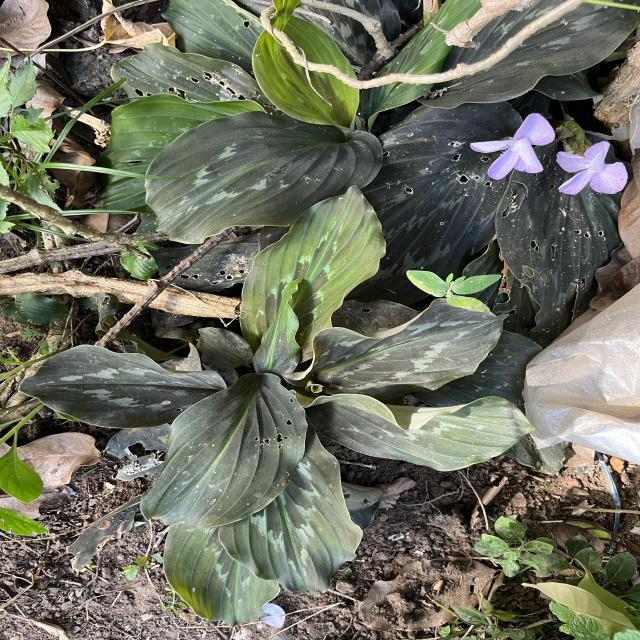Kaempferia galanga linn: (142, 109, 386, 247), (138, 369, 310, 535), (237, 182, 388, 368), (216, 421, 365, 596), (278, 296, 512, 400), (282, 386, 538, 474), (18, 343, 228, 431), (251, 275, 305, 377)
